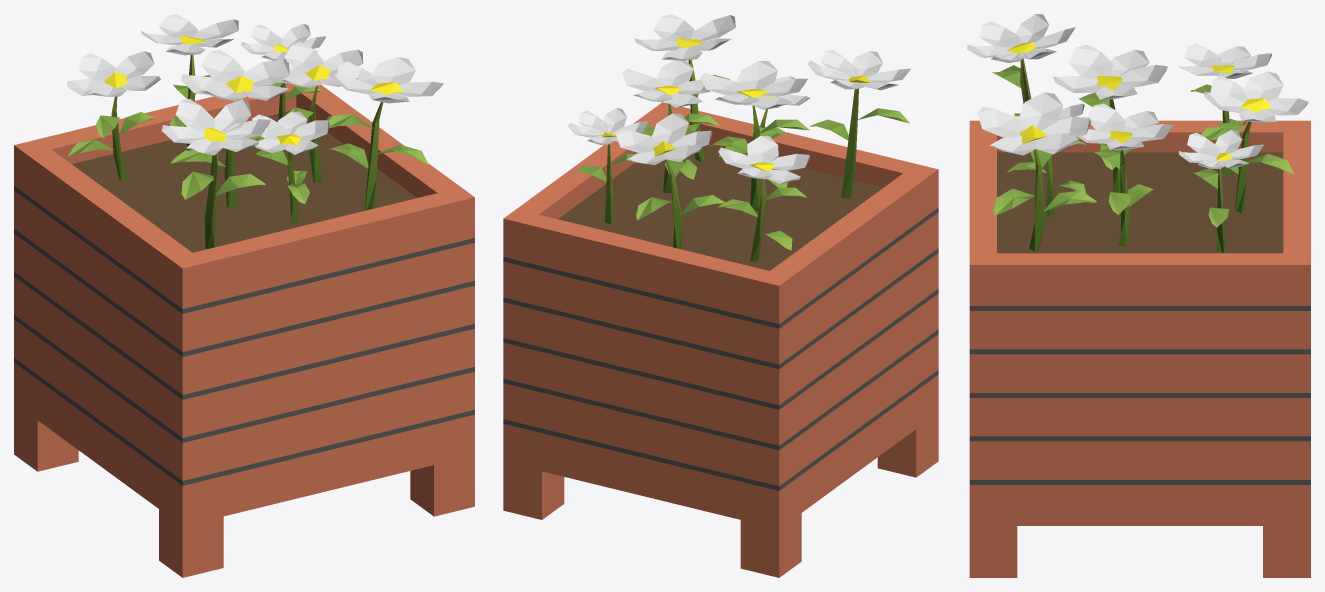
Rendered from Pot_01.fbx.
3 views of the same model, side by side, from view 1: azimuth 30°, elevation 25°; view 2: azimuth 150°, elevation 25°; view 3: azimuth 270°, elevation 25° (orthographic). The views are drawn at different scales.
Parts seen in each view (by area): view 1: Pot_01; view 2: Pot_01; view 3: Pot_01.
Part boxes in pixels (x1,y1,x2,y2): Pot_01: [14, 14, 474, 577]; Pot_01: [503, 14, 938, 577]; Pot_01: [967, 14, 1310, 577].
Bounding box in the file's own units: 59.33 × 83.13 × 59.76.
